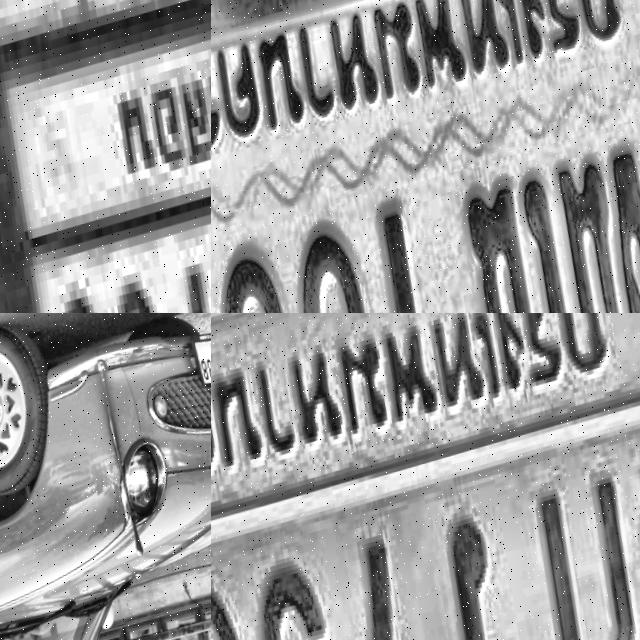license-plate: (211, 313, 640, 640), (211, 0, 640, 313), (0, 0, 211, 313), (186, 326, 211, 405)
